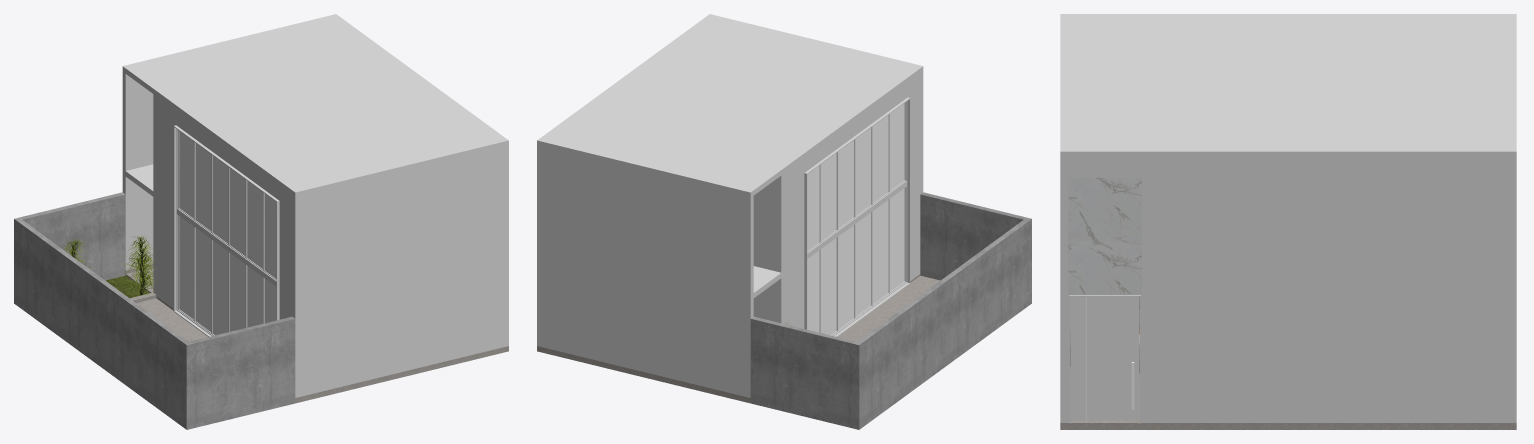
The model's file is loft.glb.
3 renders of one model, left to right at view 1: azimuth 30°, elevation 25°; view 2: azimuth 150°, elevation 25°; view 3: azimuth 270°, elevation 25°, orthographic. The views are drawn at different scales.
Parts seen in each view (by area): view 1: Cube.004, Cube.054, Cube.003, Cube.001, Cube.019, Cube.002, Cube, Cube.057, majid bush 1 p6.017; view 2: Cube.004, Cube.054, Cube.003, Cube.001, Cube.019, Cube.002, Cube.057, Cube; view 3: Cube.004, Cube.003, Cube.001, Cube.072, Cube.071, Cube, Cube.002, Cube.070.
Boxes of the visible parts, bbox=[...] form: Cube.004: bbox=[122, 14, 508, 197]; Cube.054: bbox=[14, 192, 295, 429]; Cube.003: bbox=[122, 72, 508, 295]; Cube.001: bbox=[122, 174, 508, 397]; Cube.019: bbox=[173, 125, 279, 336]; Cube.002: bbox=[122, 164, 508, 300]; Cube: bbox=[125, 267, 508, 403]; Cube.057: bbox=[105, 275, 207, 341]; majid bush 1 p6.017: bbox=[121, 235, 155, 295]; Cube.004: bbox=[537, 14, 923, 197]; Cube.054: bbox=[750, 192, 1031, 429]; Cube.003: bbox=[537, 72, 923, 295]; Cube.001: bbox=[537, 174, 923, 397]; Cube.019: bbox=[804, 97, 910, 336]; Cube.002: bbox=[537, 169, 923, 300]; Cube.057: bbox=[838, 275, 940, 341]; Cube: bbox=[537, 274, 920, 403]; Cube.004: bbox=[1060, 14, 1516, 158]; Cube.003: bbox=[1060, 158, 1516, 287]; Cube.001: bbox=[1060, 294, 1516, 422]; Cube.072: bbox=[1070, 296, 1139, 421]; Cube.071: bbox=[1068, 177, 1141, 294]; Cube: bbox=[1060, 367, 1516, 429]; Cube.002: bbox=[1060, 287, 1516, 294]; Cube.070: bbox=[1068, 294, 1141, 423].
Size of the model in its own units: 9.4 by 6.06 by 8.74.
Materials: 28 (17 with a texture image).
